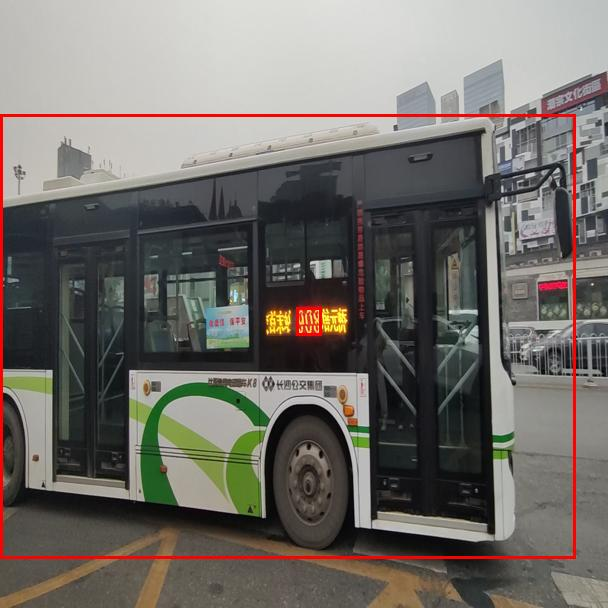bus: (0, 114, 575, 558)
screen: (296, 307, 321, 335)
